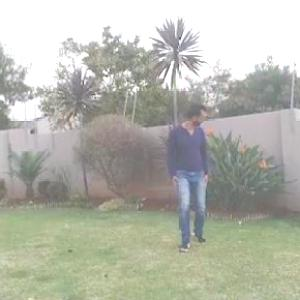follow: (166, 97, 216, 256)
